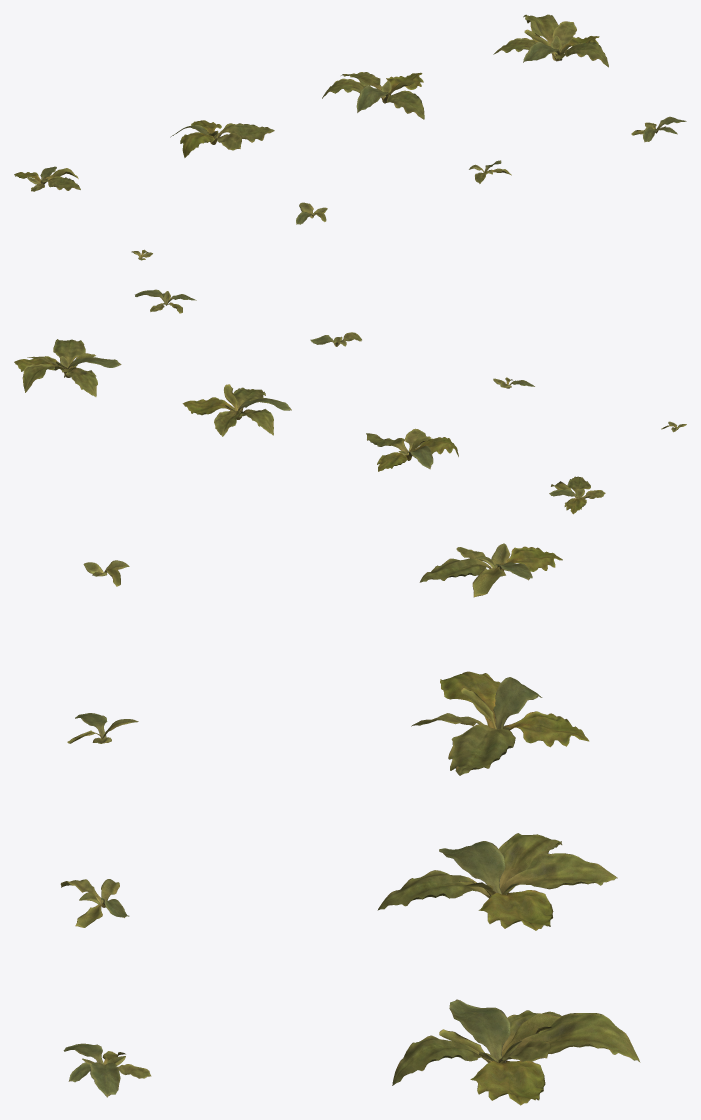
Rendered from crystalline_iceplant.glb.
The picture shows the model from 3 angles, top to bottom: view 1: azimuth 30°, elevation 25°; view 2: azimuth 150°, elevation 25°; view 3: azimuth 270°, elevation 25°; orthographic projection. The views are drawn at different scales.
Visible parts, largest first — view 1: crystalline_iceplant_a_LOD0, crystalline_iceplant_b_LOD0, crystalline_iceplant_c_LOD0, crystalline_iceplant_d_LOD0, crystalline_iceplant_e_LOD0, crystalline_iceplant_g_LOD0; view 2: crystalline_iceplant_a_LOD0, crystalline_iceplant_b_LOD0, crystalline_iceplant_c_LOD0, crystalline_iceplant_d_LOD0, crystalline_iceplant_e_LOD0, crystalline_iceplant_f_LOD0; view 3: crystalline_iceplant_a_LOD0, crystalline_iceplant_b_LOD0, crystalline_iceplant_c_LOD0, crystalline_iceplant_d_LOD0, crystalline_iceplant_e_LOD0, crystalline_iceplant_f_LOD0.
Boxes of the visible parts, bbox=[...] form: crystalline_iceplant_a_LOD0: bbox=[493, 14, 608, 67]; crystalline_iceplant_b_LOD0: bbox=[322, 72, 424, 119]; crystalline_iceplant_c_LOD0: bbox=[170, 120, 274, 157]; crystalline_iceplant_d_LOD0: bbox=[14, 166, 80, 191]; crystalline_iceplant_e_LOD0: bbox=[631, 116, 686, 142]; crystalline_iceplant_g_LOD0: bbox=[296, 202, 327, 224]; crystalline_iceplant_a_LOD0: bbox=[14, 339, 121, 396]; crystalline_iceplant_b_LOD0: bbox=[182, 384, 291, 436]; crystalline_iceplant_c_LOD0: bbox=[366, 428, 458, 471]; crystalline_iceplant_d_LOD0: bbox=[549, 476, 605, 514]; crystalline_iceplant_e_LOD0: bbox=[135, 289, 196, 313]; crystalline_iceplant_f_LOD0: bbox=[310, 332, 361, 346]; crystalline_iceplant_a_LOD0: bbox=[392, 999, 640, 1105]; crystalline_iceplant_b_LOD0: bbox=[377, 833, 617, 930]; crystalline_iceplant_c_LOD0: bbox=[411, 671, 589, 775]; crystalline_iceplant_d_LOD0: bbox=[419, 543, 562, 597]; crystalline_iceplant_e_LOD0: bbox=[63, 1043, 151, 1097]; crystalline_iceplant_f_LOD0: bbox=[60, 879, 129, 927].
Bounding box in the file's own units: 1.69 × 0.0822 × 0.7379.
1 material, 1 textured.
